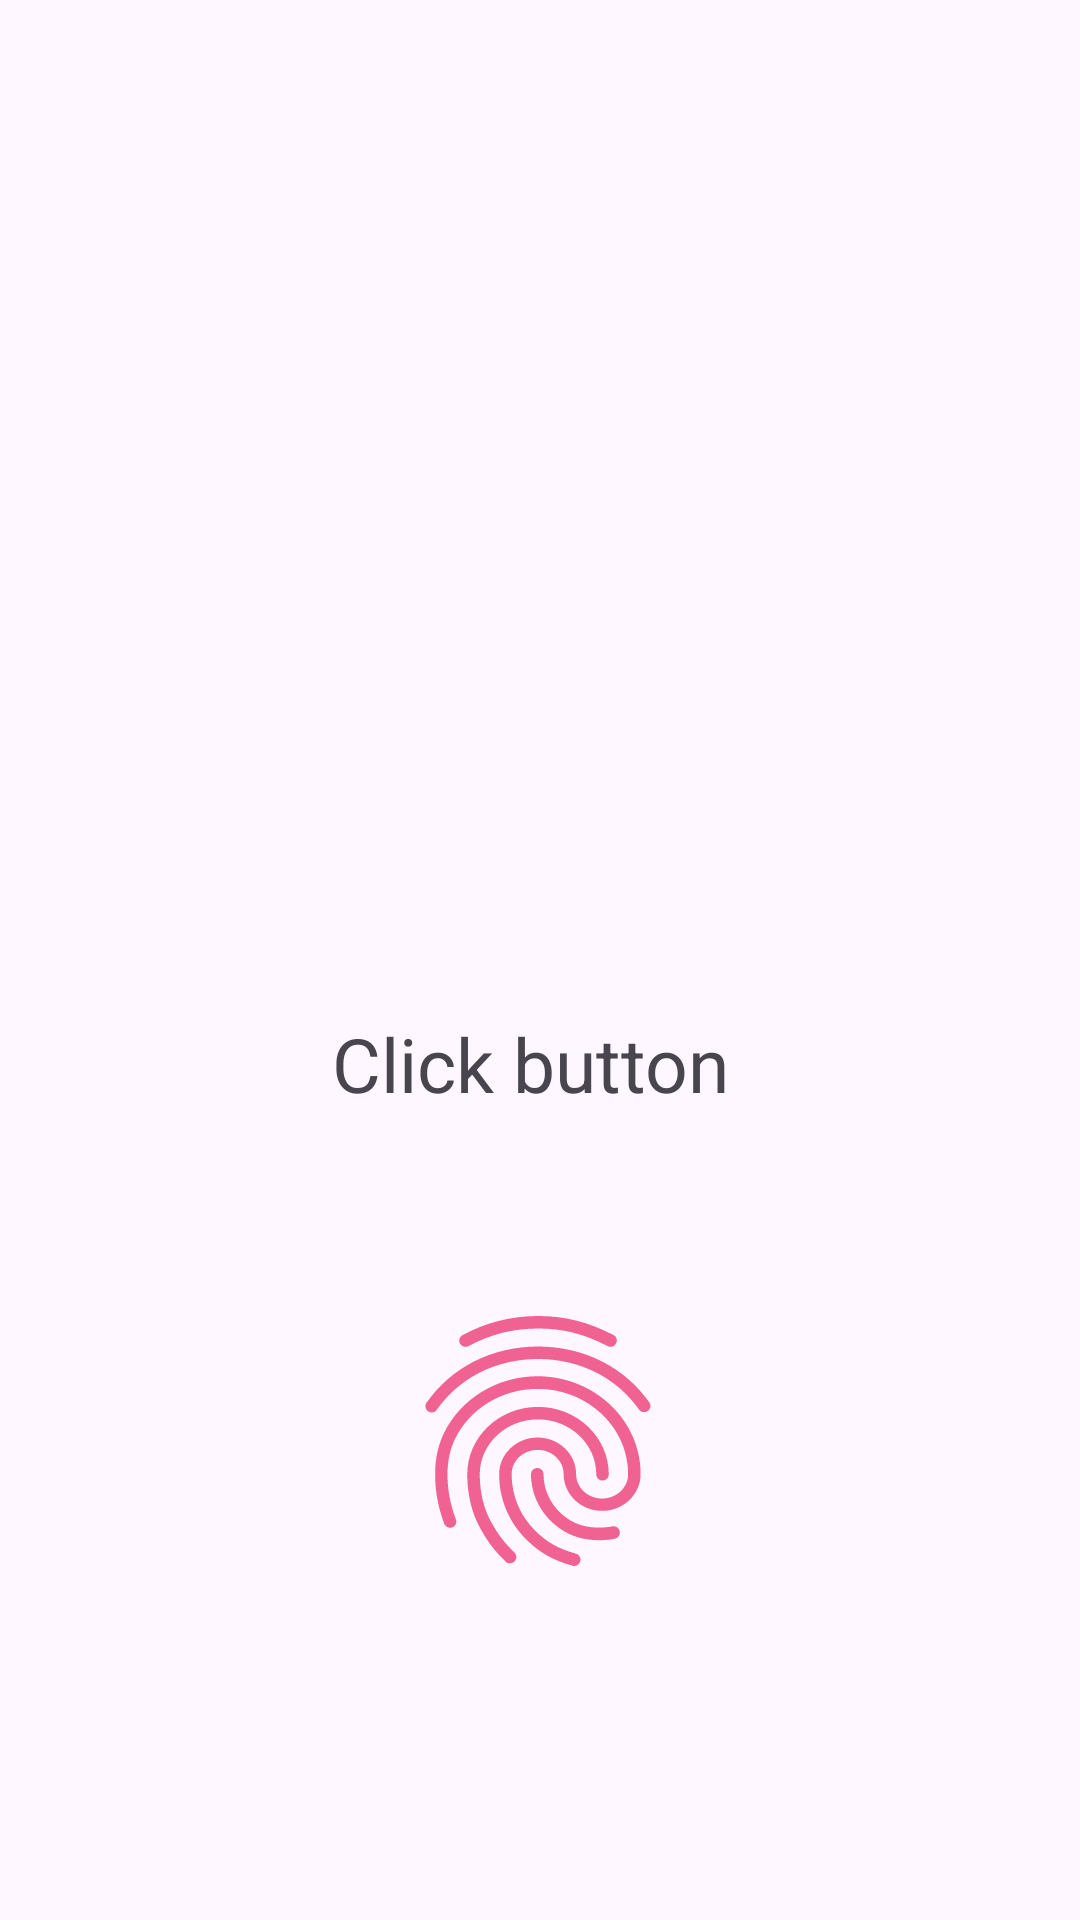

Point at icon controls on the screen. Image size 1080x1920, points as point (x, y).
fingerprint: point (538, 1441)
